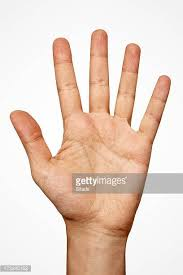palm: (65, 119, 141, 223)
